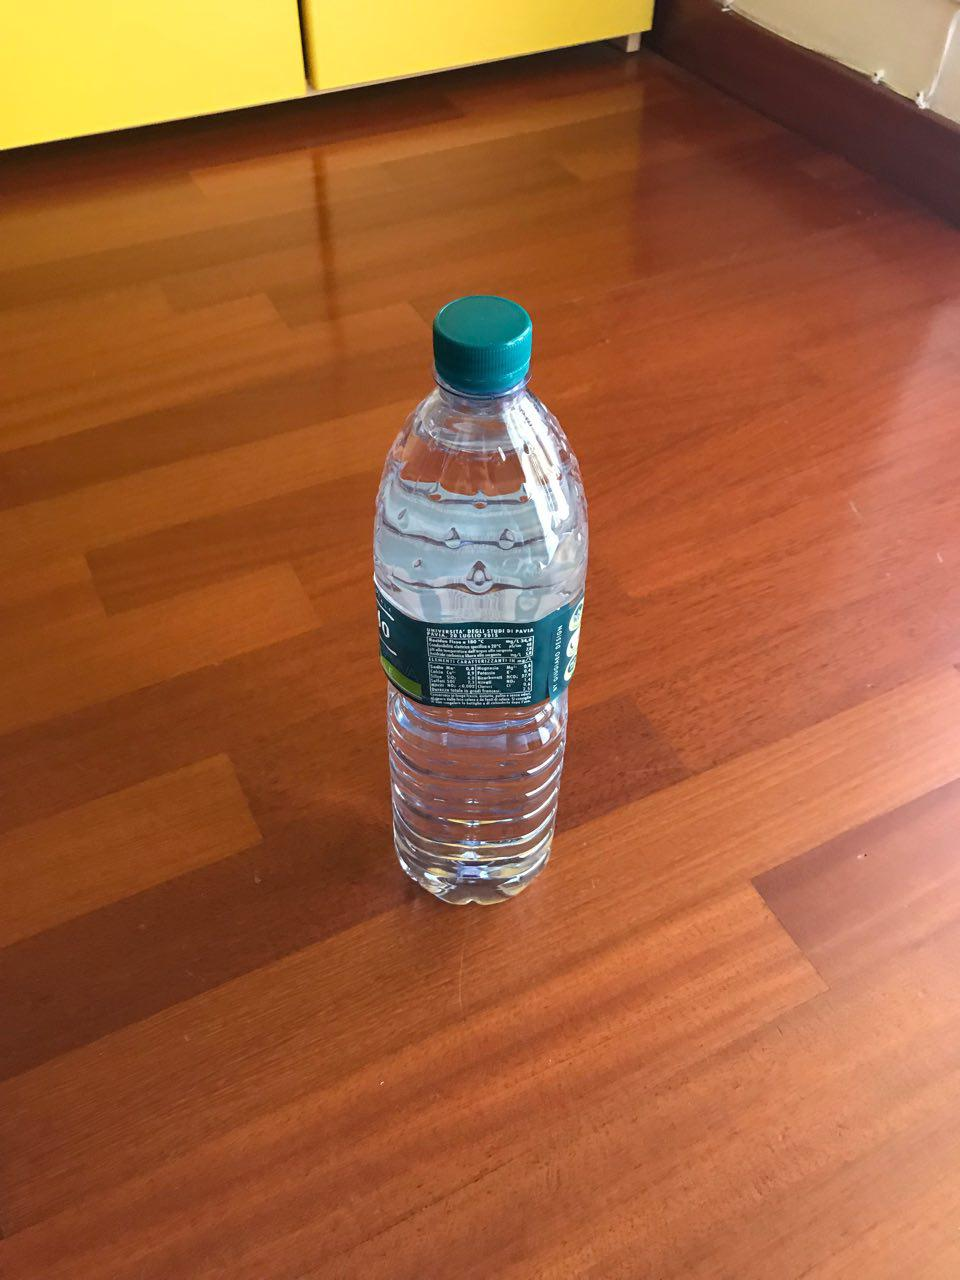san_bernardo: (373, 292, 591, 911)
